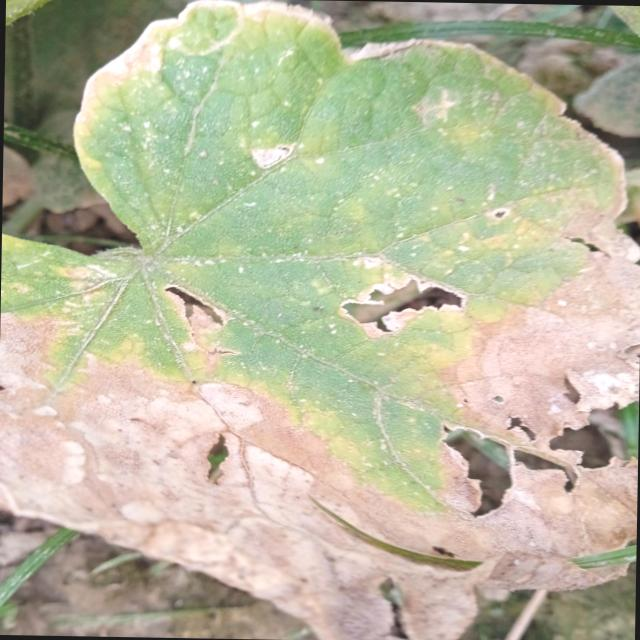cucumber_anthracnose: (103, 55, 640, 640)
